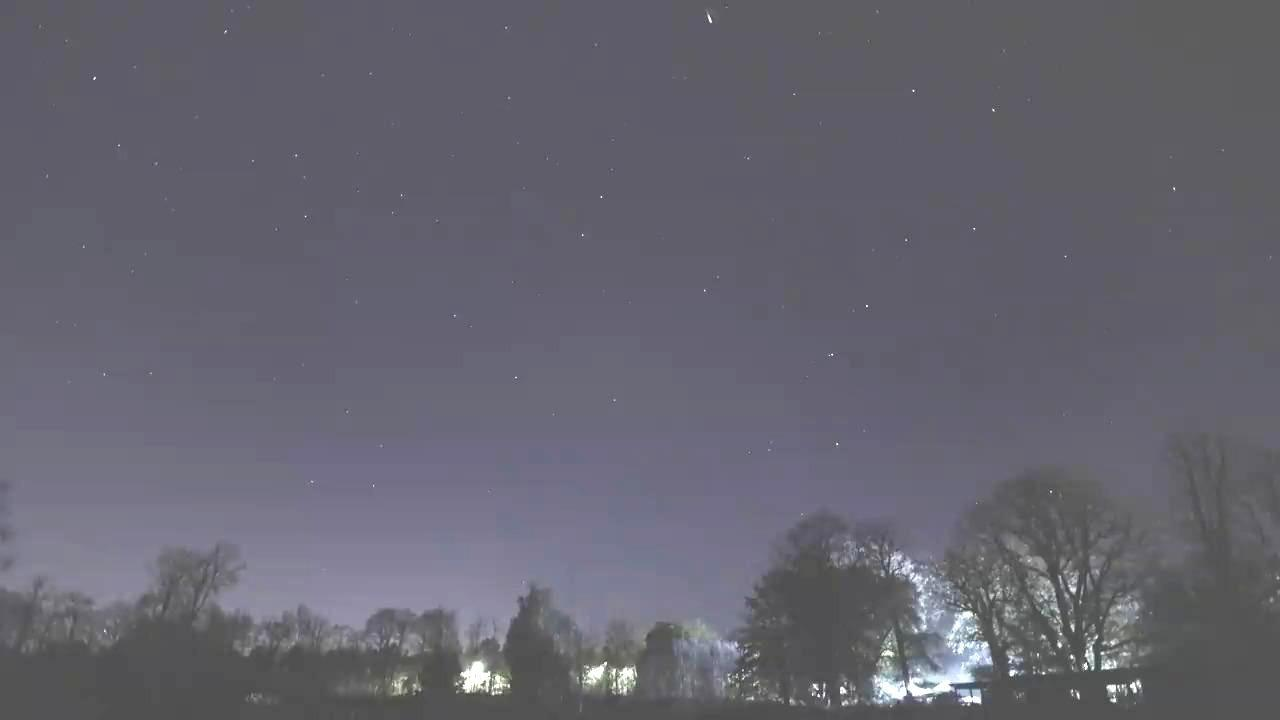meteorite: (672, 0, 749, 28)
